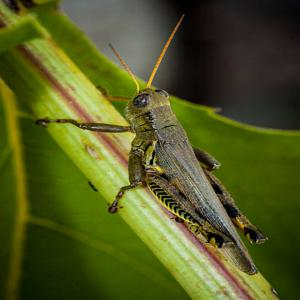locust: (106, 35, 263, 277)
